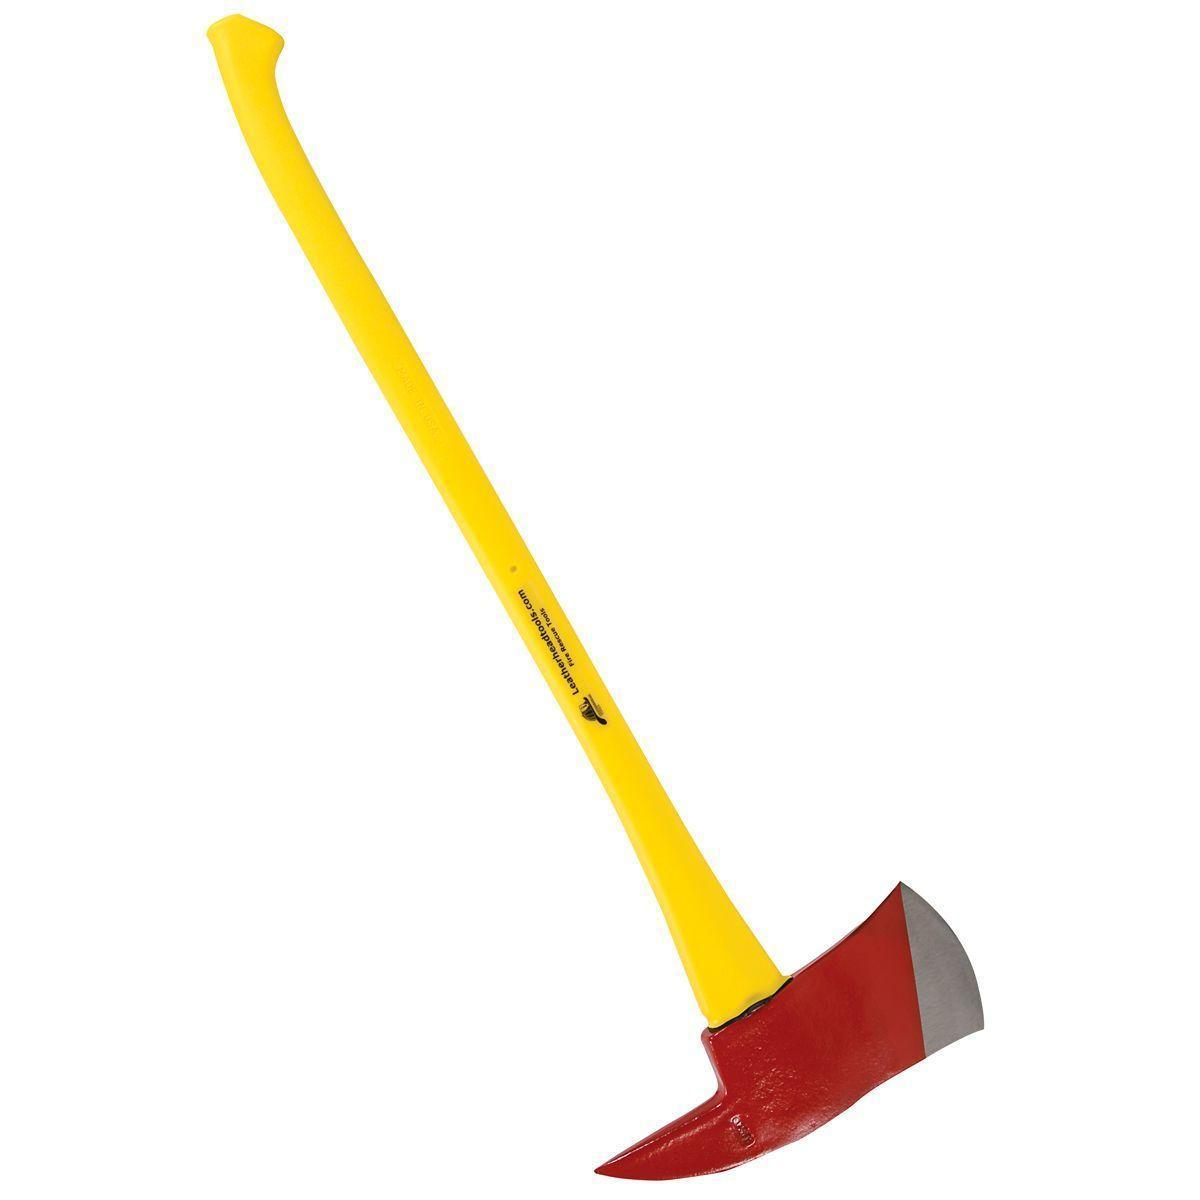machado: (208, 15, 982, 1179)
